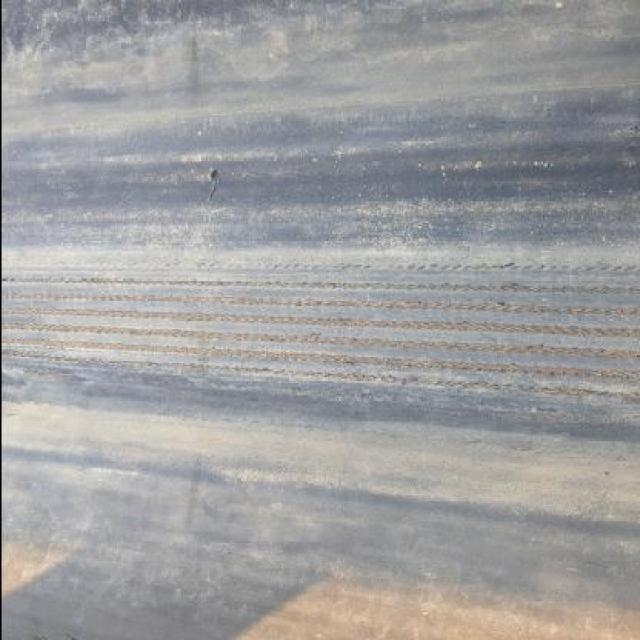Wear: (0, 269, 640, 411)
